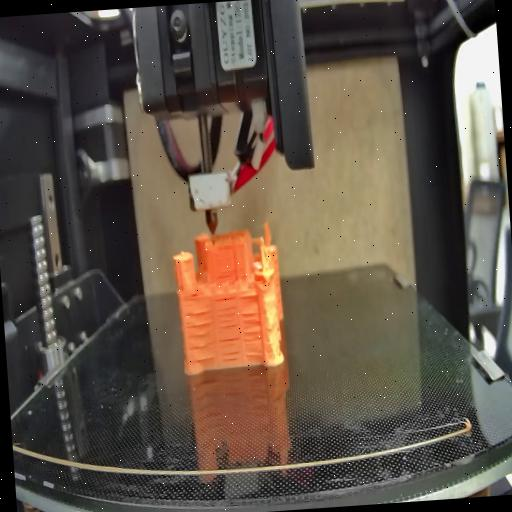cracks: (185, 307, 217, 362), (242, 310, 264, 356), (216, 296, 240, 330), (218, 334, 242, 362), (188, 289, 202, 300), (242, 292, 260, 300)
